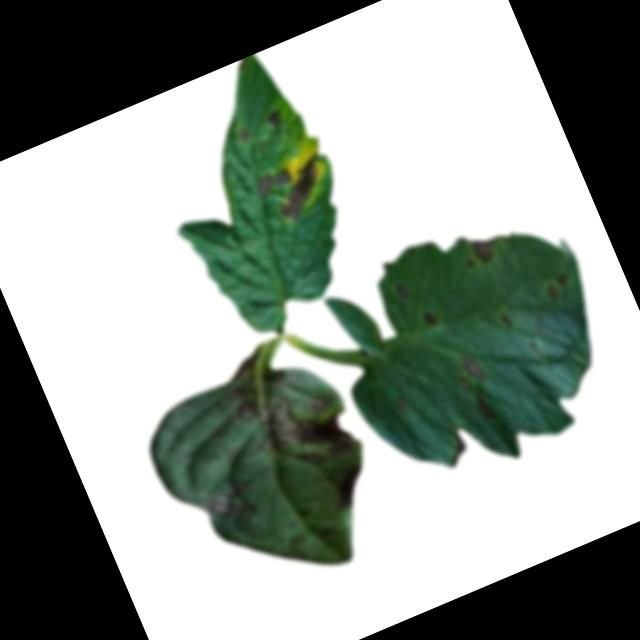Early_blight: (217, 345, 362, 488), (262, 156, 332, 224), (191, 478, 264, 542), (322, 459, 375, 511), (449, 348, 493, 398), (457, 230, 503, 274), (249, 164, 293, 200), (541, 271, 571, 299), (470, 392, 497, 423), (260, 105, 285, 131), (232, 124, 252, 146), (391, 281, 410, 304), (417, 308, 438, 328)
